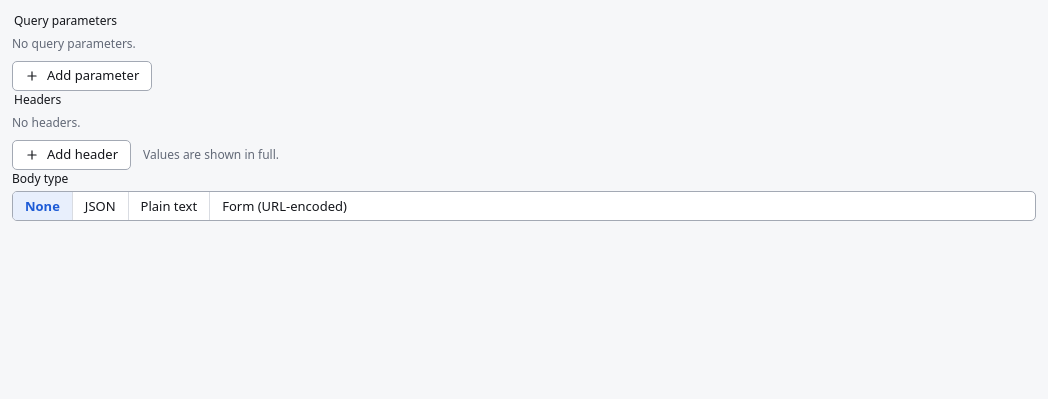
Test case: RequestRowsGroup › shows the Body text with its hint for Plain text, and hides it for None, keeping the text
This screenshot has width=1048, height=399.
Click the radio button named "Plain text" at [169, 206], box x1=129 y1=192 x2=209 y2=220
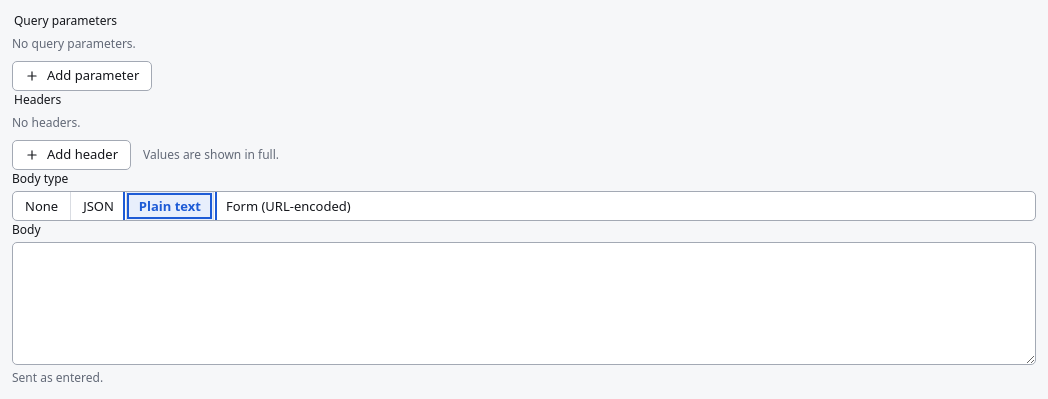
Type "kept text" into the text box labelled "Body" at [524, 303], box x1=12 y1=242 x2=1036 y2=365
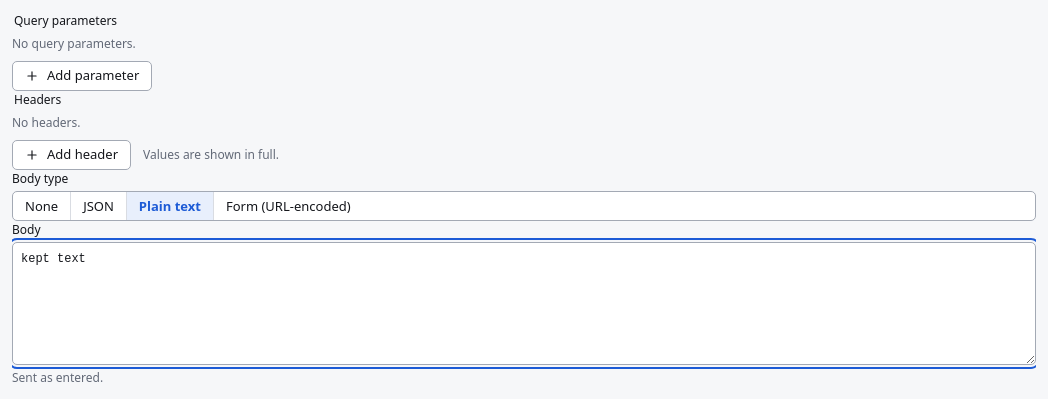
Click the radio button named "None" at [42, 206], box x1=13 y1=192 x2=70 y2=220
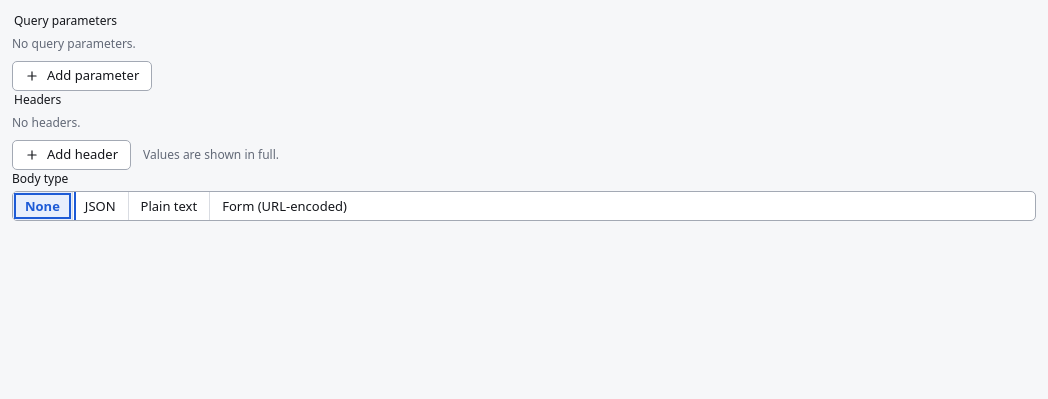
Click the radio button named "Plain text" at [169, 206], box x1=129 y1=192 x2=209 y2=220
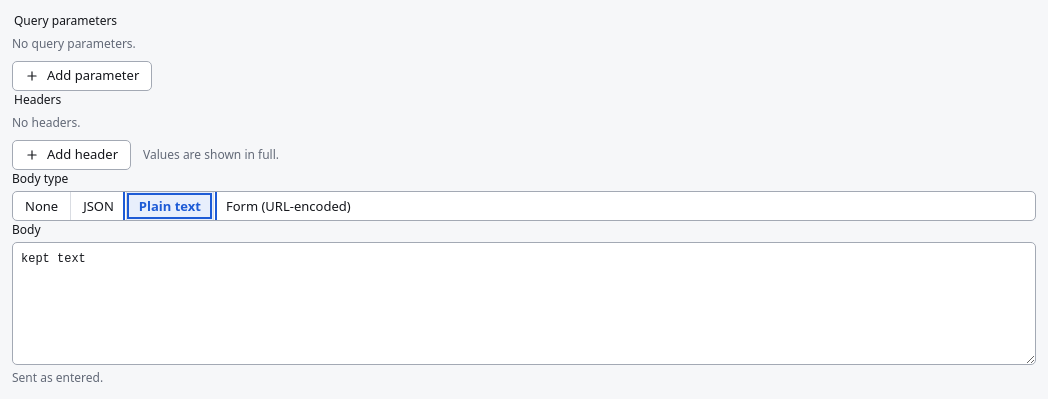
Expected: the text box labelled "Body" holds "kept text", x1=12 y1=242 x2=1036 y2=365
